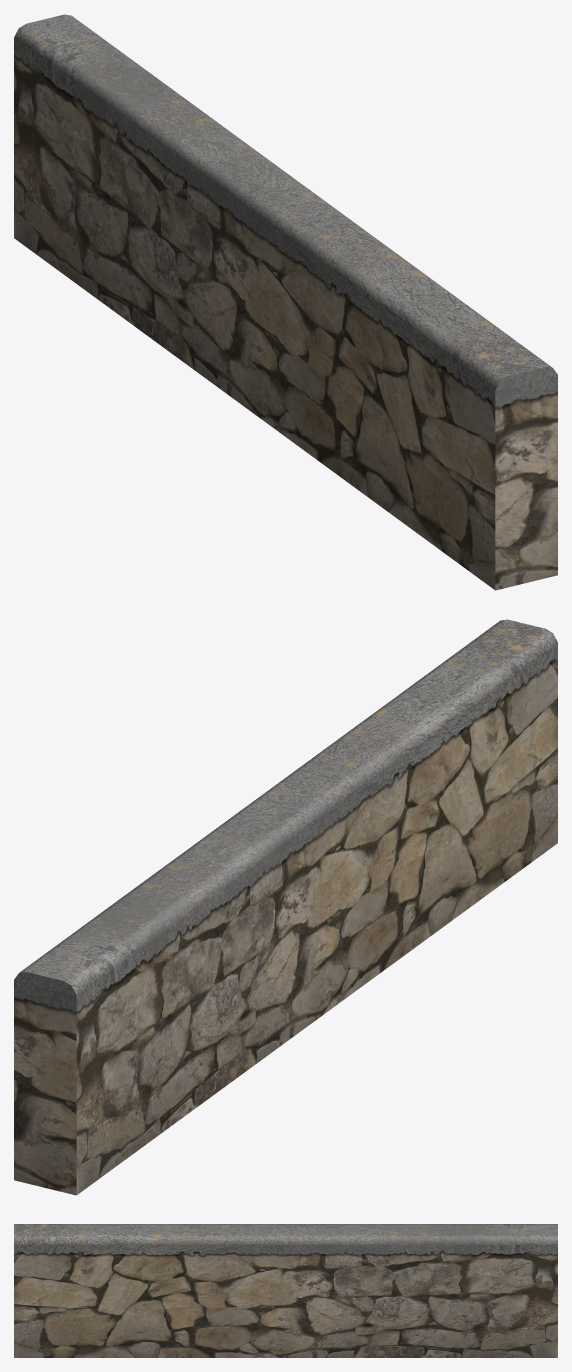
Rendered from MB_Fence_Stone_4m_01.fbx.
The picture shows the model from 3 angles, top to bottom: view 1: azimuth 30°, elevation 25°; view 2: azimuth 150°, elevation 25°; view 3: azimuth 270°, elevation 25°; orthographic projection. The views are drawn at different scales.
Parts seen in each view (by area): view 1: MB_Fence_Stone_4m_01; view 2: MB_Fence_Stone_4m_01; view 3: MB_Fence_Stone_4m_01.
Part boxes in pixels (bbox=[...]): MB_Fence_Stone_4m_01: bbox=[14, 14, 557, 590]; MB_Fence_Stone_4m_01: bbox=[14, 619, 557, 1195]; MB_Fence_Stone_4m_01: bbox=[14, 1224, 557, 1357].
Size of the model in its own units: 30 by 96.9 by 400.
